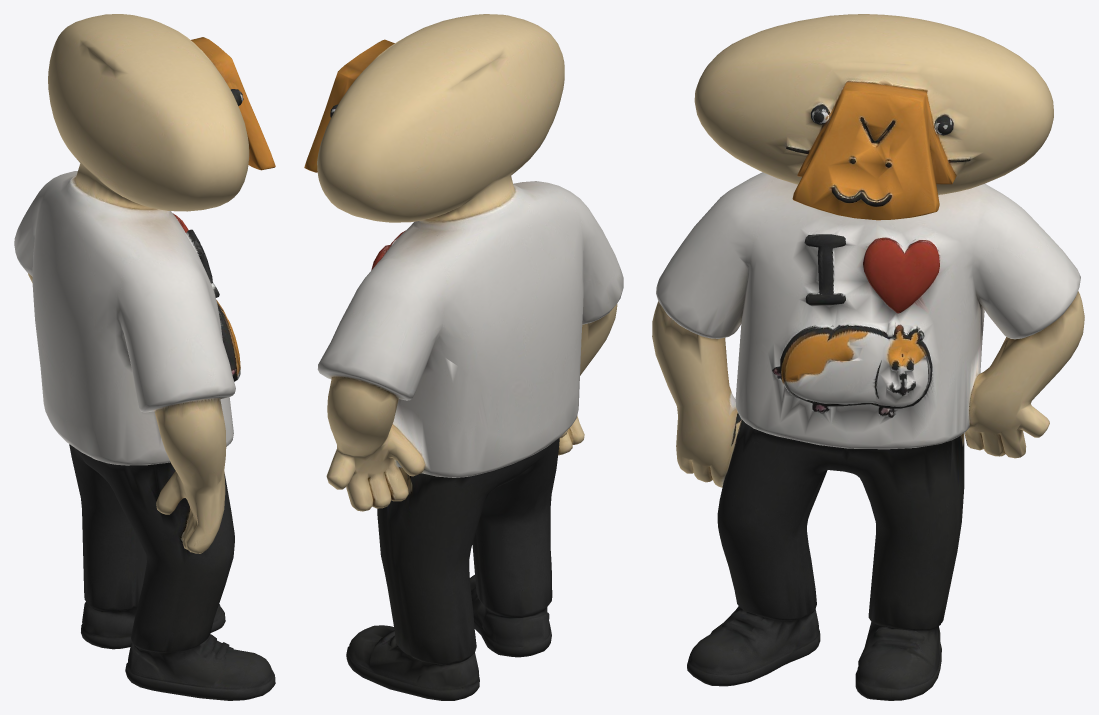
The model's file is Hamster-God.glb.
The picture shows the model from 3 angles, left to right: view 1: azimuth 30°, elevation 25°; view 2: azimuth 150°, elevation 25°; view 3: azimuth 270°, elevation 25°; orthographic projection. The views are drawn at different scales.
Visible parts, largest first — view 1: tripo_node_d1a19db3-4519-462a-84be-46d1f922944b; view 2: tripo_node_d1a19db3-4519-462a-84be-46d1f922944b; view 3: tripo_node_d1a19db3-4519-462a-84be-46d1f922944b.
Boxes of the visible parts, <box> form: tripo_node_d1a19db3-4519-462a-84be-46d1f922944b: <box>14,14,275,700</box>; tripo_node_d1a19db3-4519-462a-84be-46d1f922944b: <box>304,14,623,700</box>; tripo_node_d1a19db3-4519-462a-84be-46d1f922944b: <box>652,14,1084,700</box>.
Bounding box in the file's own units: 0.3414 × 0.9796 × 0.6005.
Materials: 1 (1 with a texture image).
